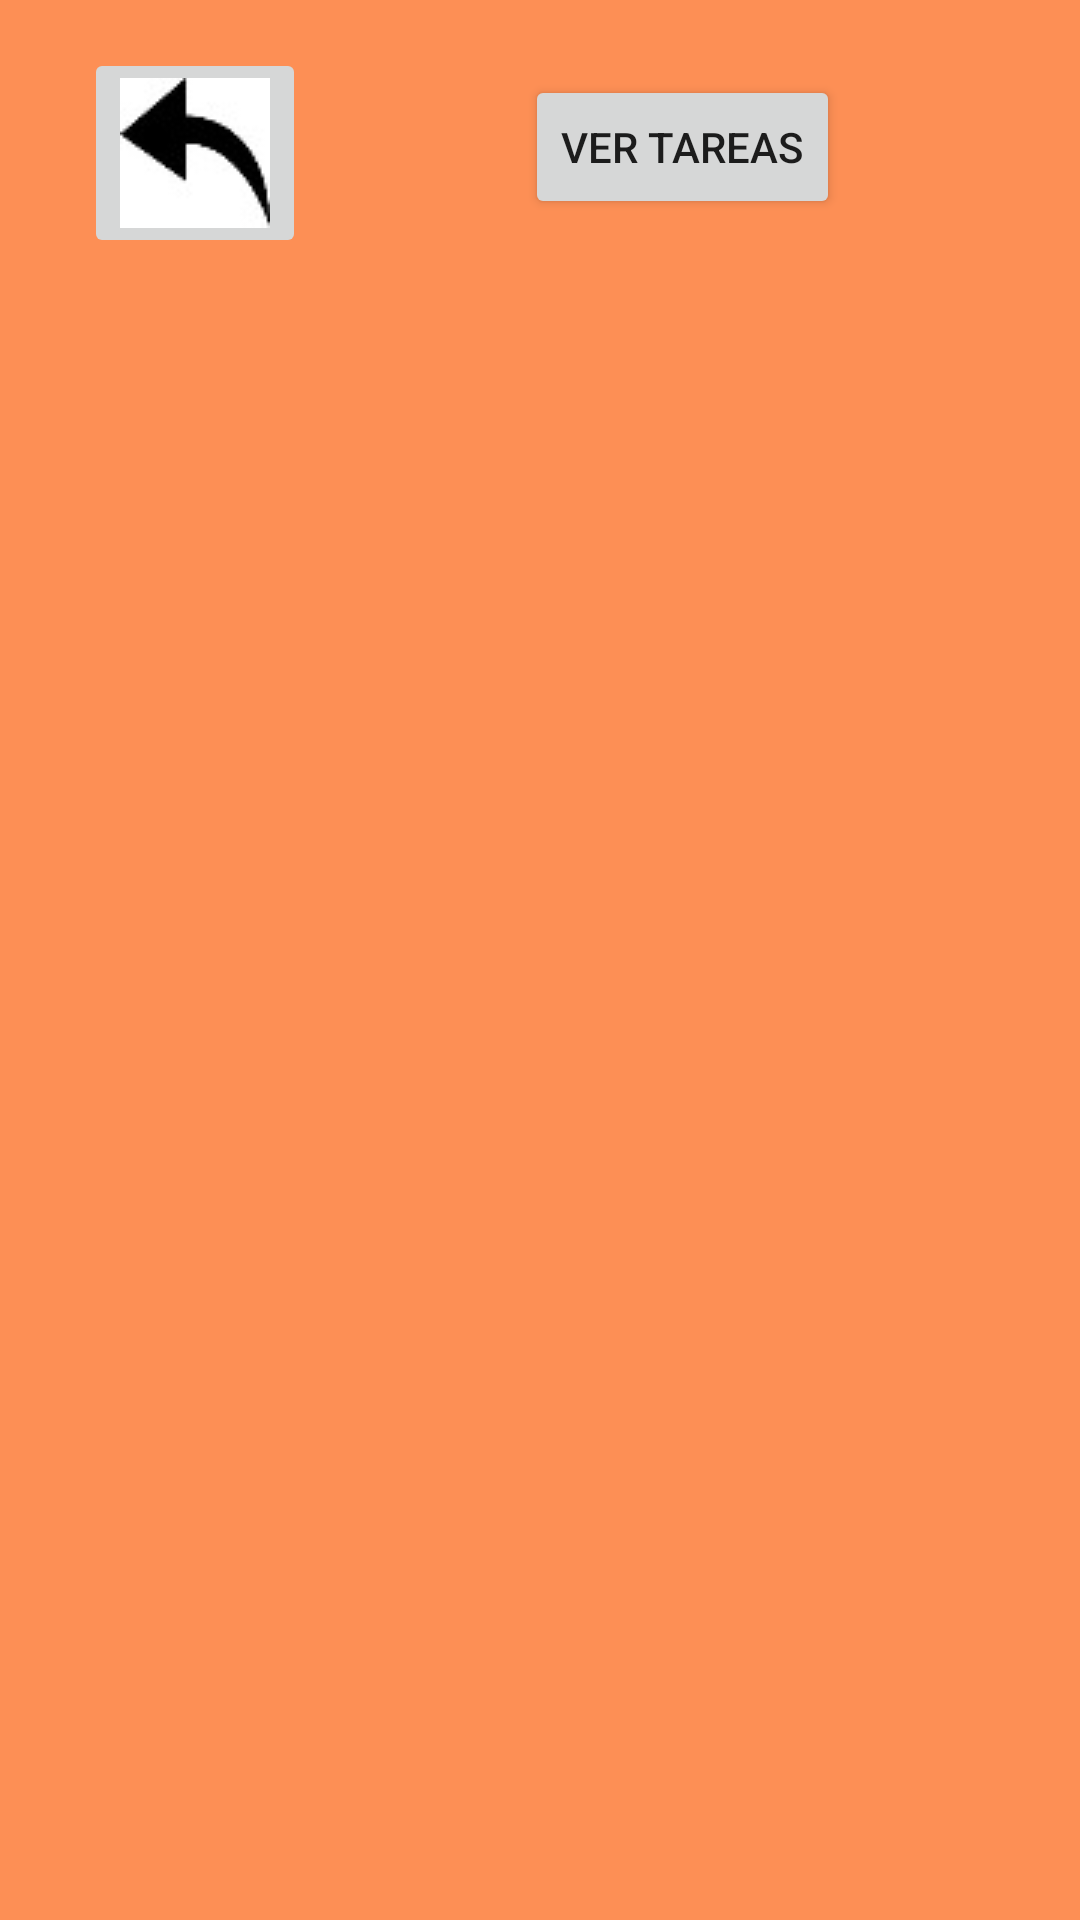

Point at icon controls on the screen. Image size 1080w x 1920h, points as point (x, y).
volver: point (195, 153)
